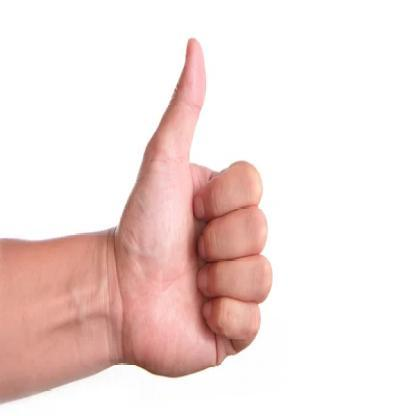thumb_up: (116, 34, 274, 380)
